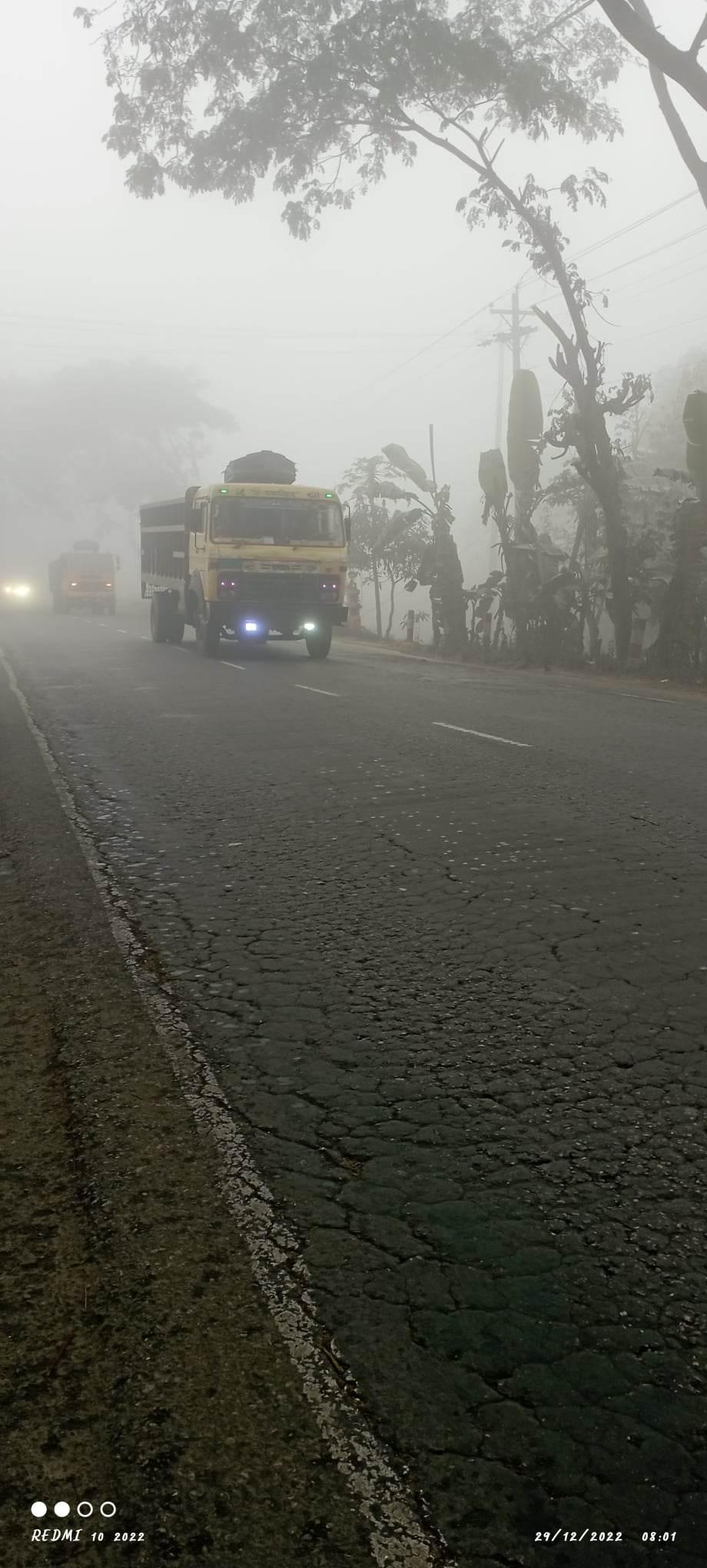Truck: (125, 437, 431, 700), (38, 520, 125, 639)
